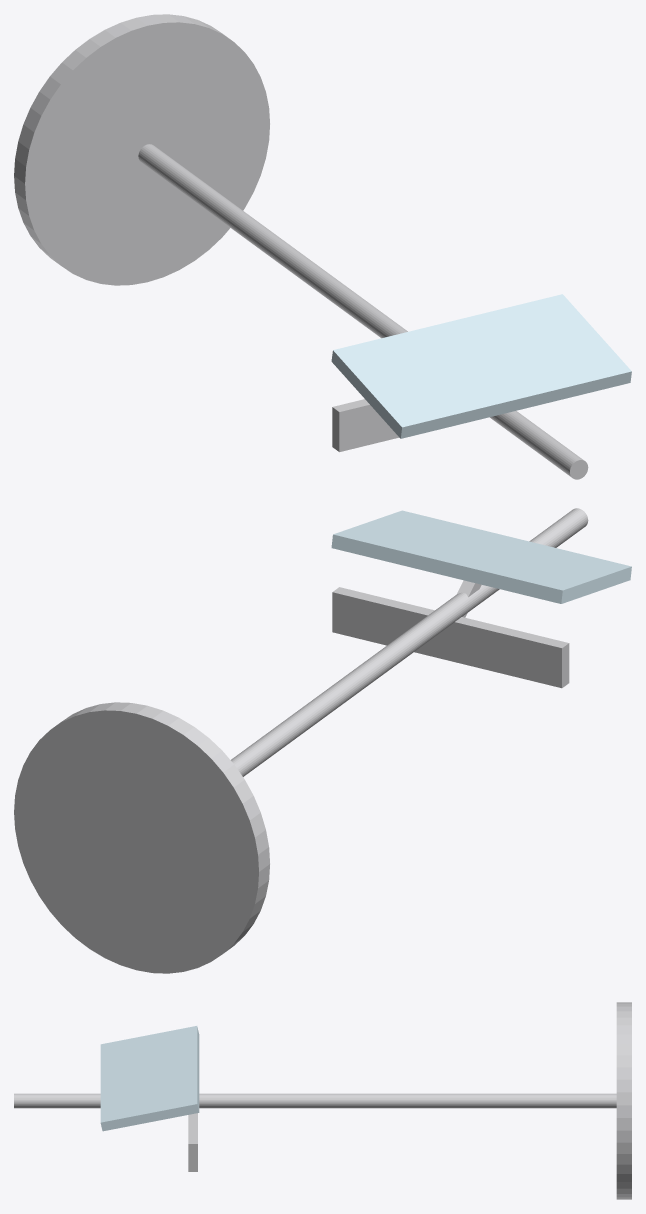
The model's file is 413 BROSURLUK - BROCHURE RACK.glb.
The picture shows the model from 3 angles, top to bottom: view 1: azimuth 30°, elevation 25°; view 2: azimuth 150°, elevation 25°; view 3: azimuth 270°, elevation 25°; orthographic projection. The views are drawn at different scales.
Parts seen in each view (by area): view 1: base, tray_back, post, tray_lip; view 2: base, tray_back, tray_lip, post; view 3: tray_back, post, base, tray_lip.
Part boxes in pixels (x1,y1,x2,y2): base: [14, 14, 269, 285]; tray_back: [331, 294, 631, 438]; post: [138, 144, 588, 479]; tray_lip: [332, 399, 398, 452]; base: [14, 702, 269, 973]; tray_back: [331, 510, 631, 603]; tray_lip: [332, 587, 569, 688]; post: [231, 508, 588, 776]; tray_back: [100, 1026, 199, 1131]; post: [14, 1093, 616, 1108]; base: [616, 1002, 631, 1199]; tray_lip: [188, 1113, 197, 1171].
Size of the model in its own units: 0.32 by 0.32 by 1.
